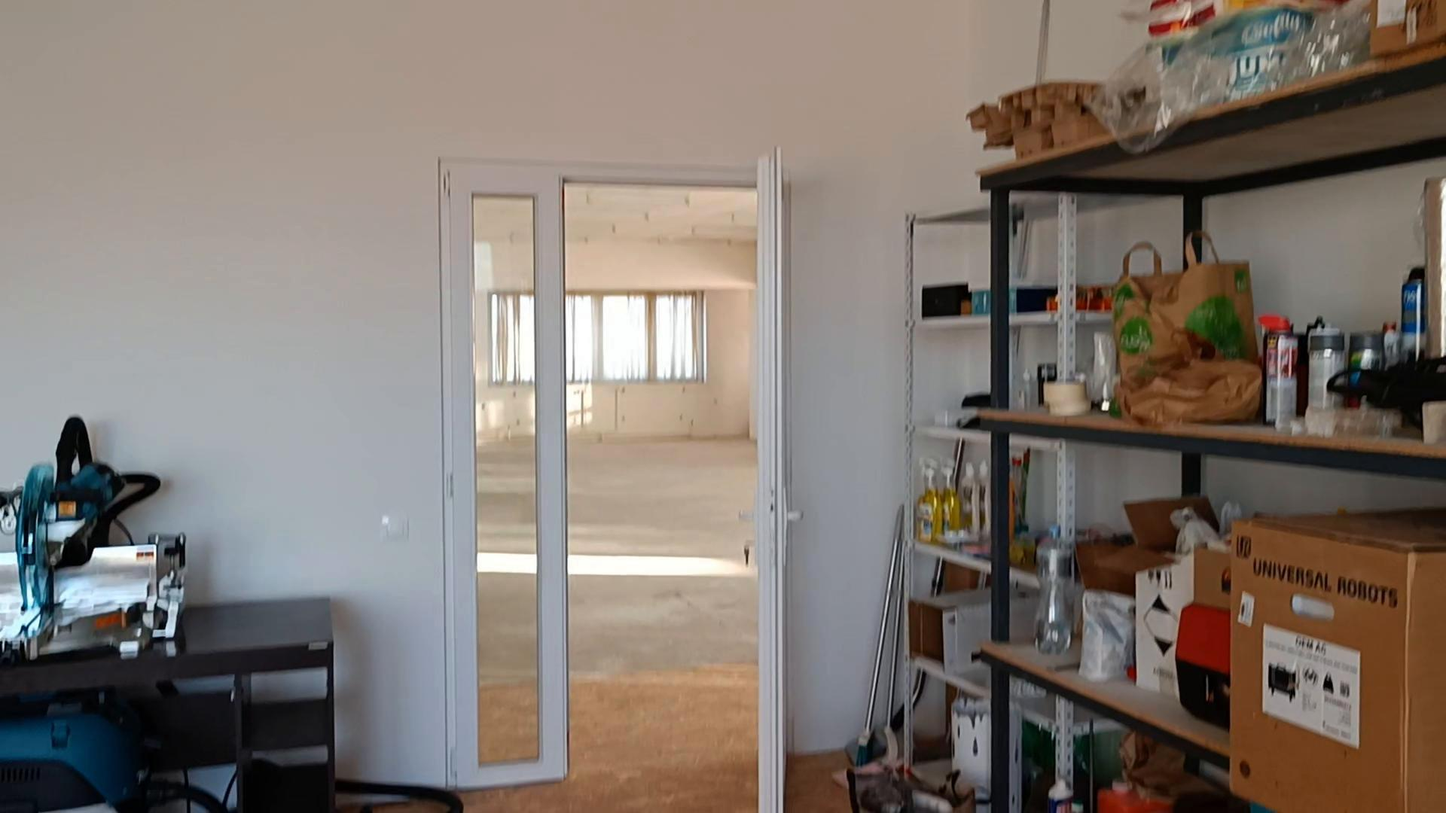ceiling: (564, 184, 757, 291)
floor: (465, 437, 758, 812)
wall: (0, 0, 1039, 783), (1204, 163, 1442, 325)
